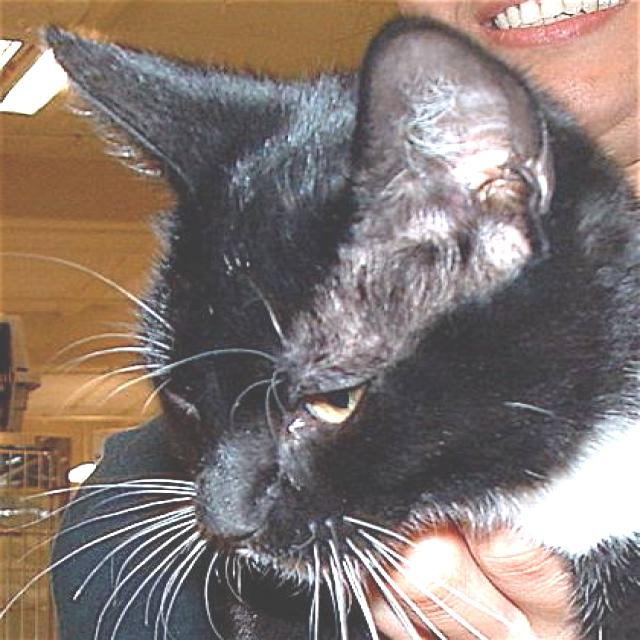Kucing: (55, 29, 582, 626)
